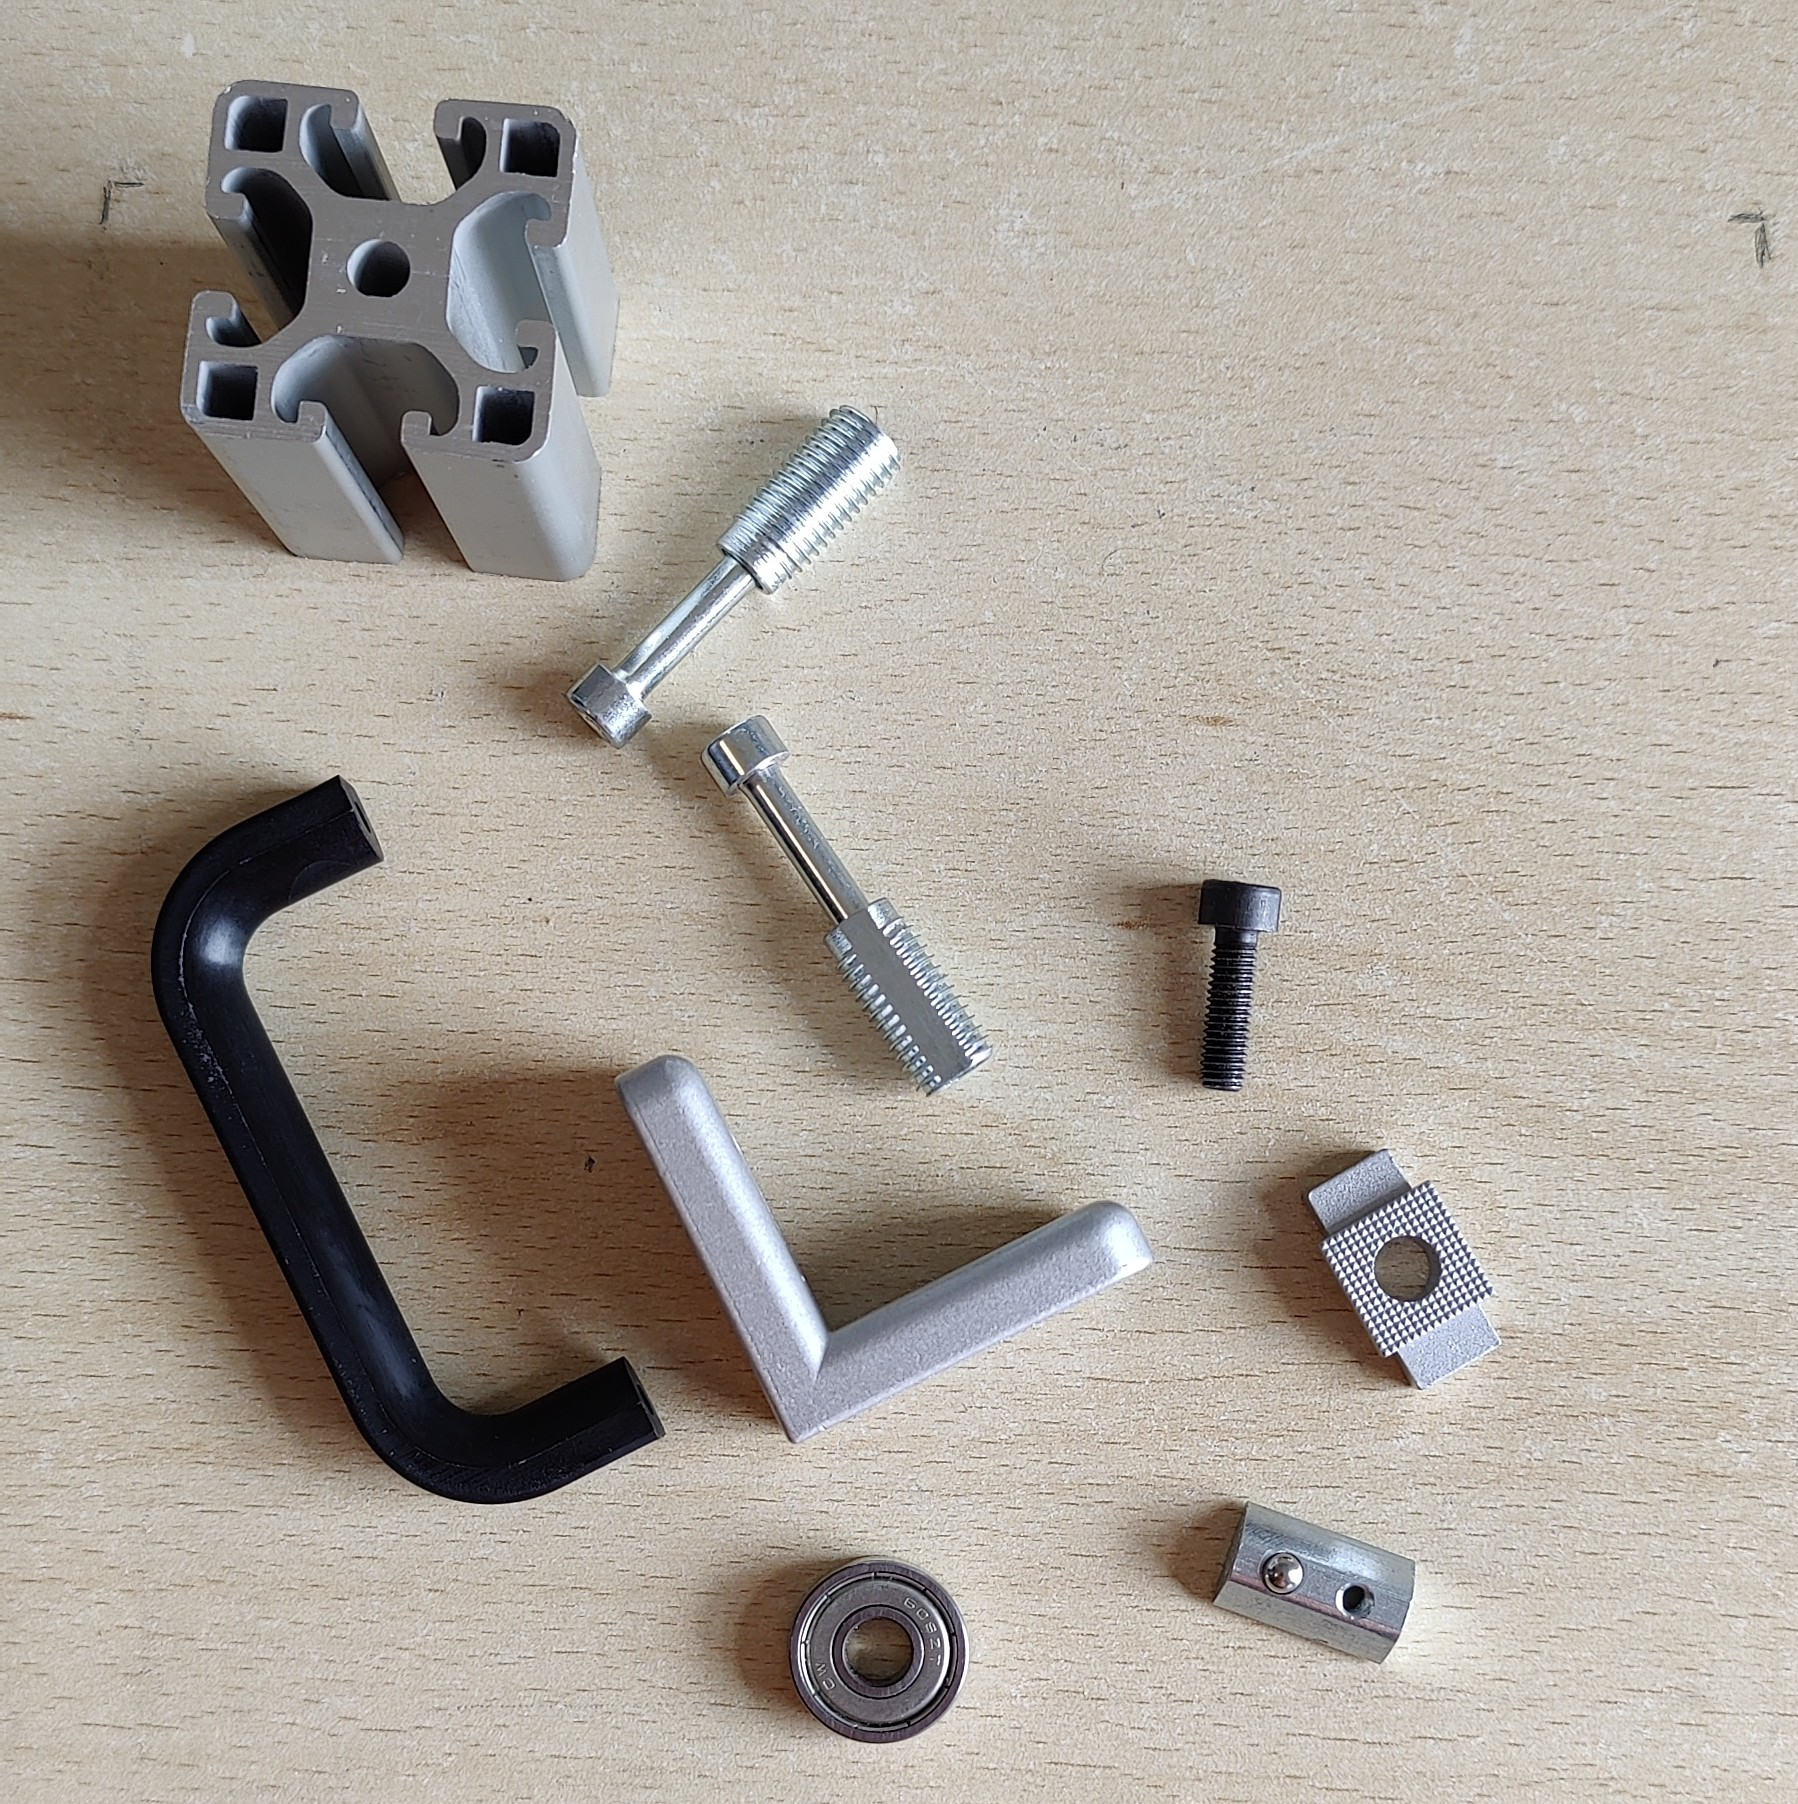Aluminium Extension: (176, 72, 621, 584)
Ball Bearing: (784, 1555, 971, 1745)
Multiwinkel: (609, 1053, 1156, 1447)
Pull Handle: (150, 770, 667, 1503)
Shoulder Socket Head Cap Screw: (561, 403, 904, 752), (698, 714, 999, 1100)
Socket Head Cap Screw: (1194, 877, 1288, 1096)
T Nut Square: (1302, 1146, 1507, 1389)
T Spring Nut: (1207, 1496, 1421, 1667)
